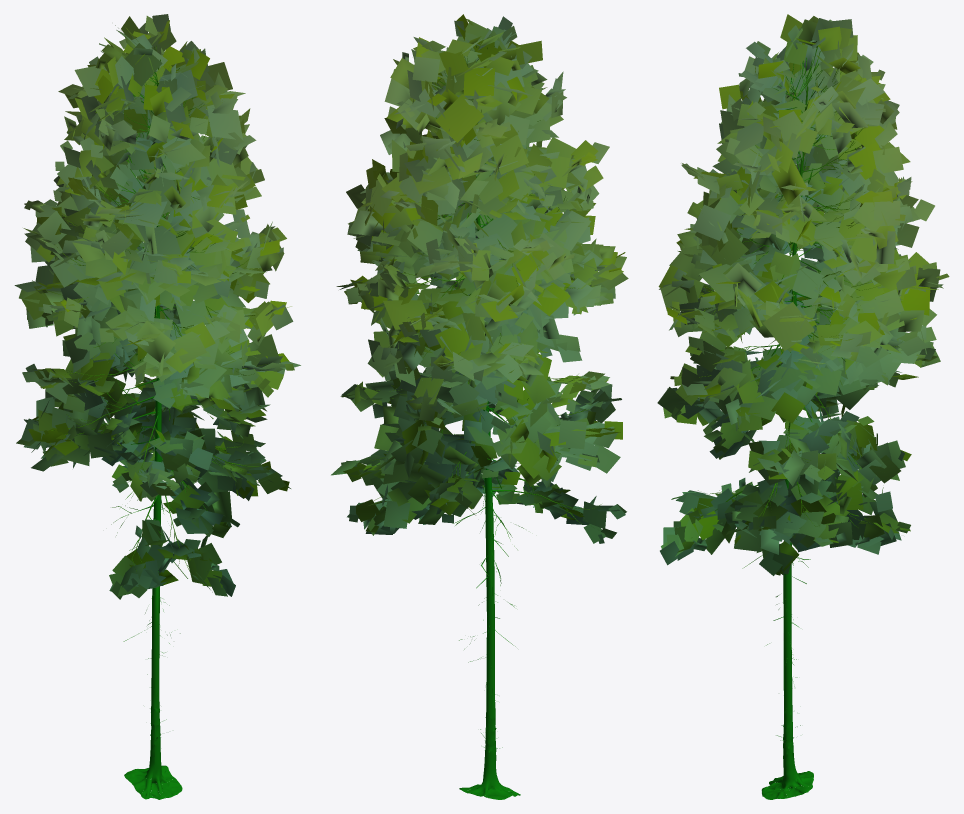
File: fir_tree_01_0.glb
The picture shows the model from 3 angles, left to right: view 1: azimuth 30°, elevation 25°; view 2: azimuth 150°, elevation 25°; view 3: azimuth 270°, elevation 25°; orthographic projection. The views are drawn at different scales.
Parts seen in each view (by area): view 1: fir_tree_01_0_cards, fir_tree_01_0_trunk; view 2: fir_tree_01_0_cards, fir_tree_01_0_trunk; view 3: fir_tree_01_0_cards, fir_tree_01_0_trunk.
Boxes of the visible parts, left/top/right/bottom form: fir_tree_01_0_cards: left=14, top=14, right=300, bottom=599; fir_tree_01_0_trunk: left=47, top=46, right=268, bottom=799; fir_tree_01_0_cards: left=331, top=14, right=628, bottom=543; fir_tree_01_0_trunk: left=367, top=46, right=601, bottom=799; fir_tree_01_0_cards: left=657, top=14, right=949, bottom=575; fir_tree_01_0_trunk: left=686, top=43, right=902, bottom=799.
Size of the model in its own units: 6.67 by 18.89 by 6.53.
